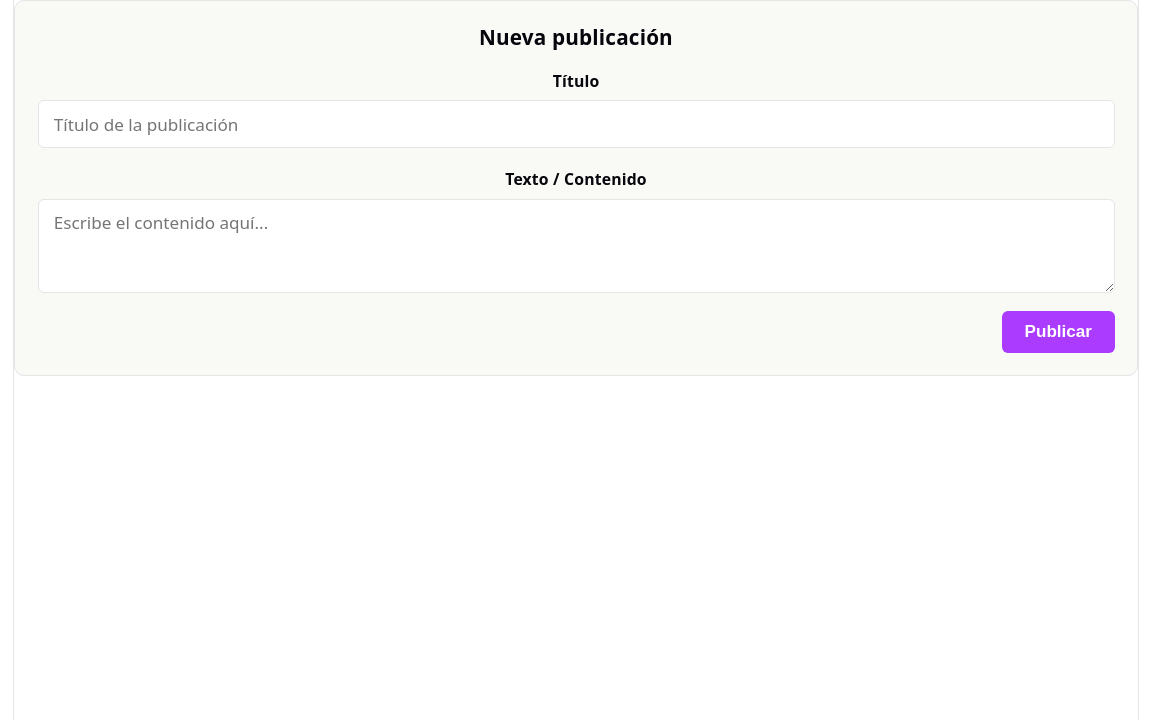
Test: PostForm component › procesa el envío exitoso, deshabilita el botón mientras envía y limpia los campos al finalizar
This screenshot has width=1152, height=720.
Later steps or results of the test are not shown.
Step 1. Type "Mi Nuevo Post" into the field labelled "Título" → (576, 124), box top-left (38, 100), bottom-right (1114, 148)
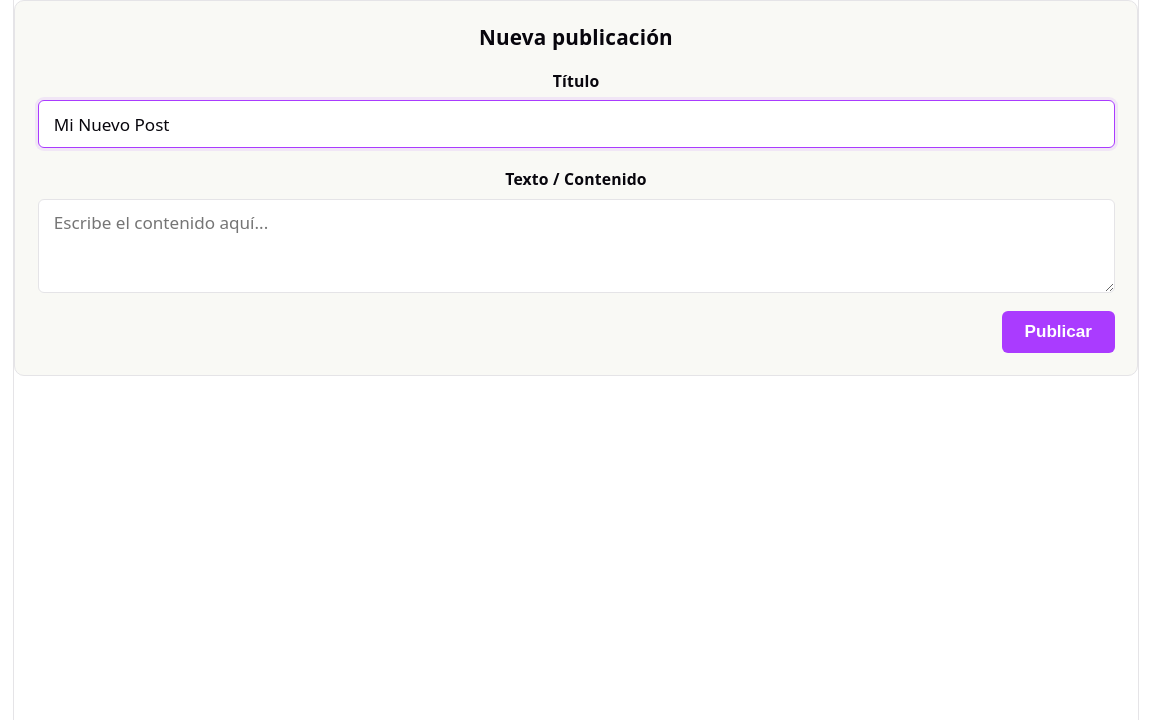
Step 2. Type "Este es el contenido de prueba" into the text box labelled "Texto / Contenido" → (576, 246), box top-left (38, 199), bottom-right (1114, 293)
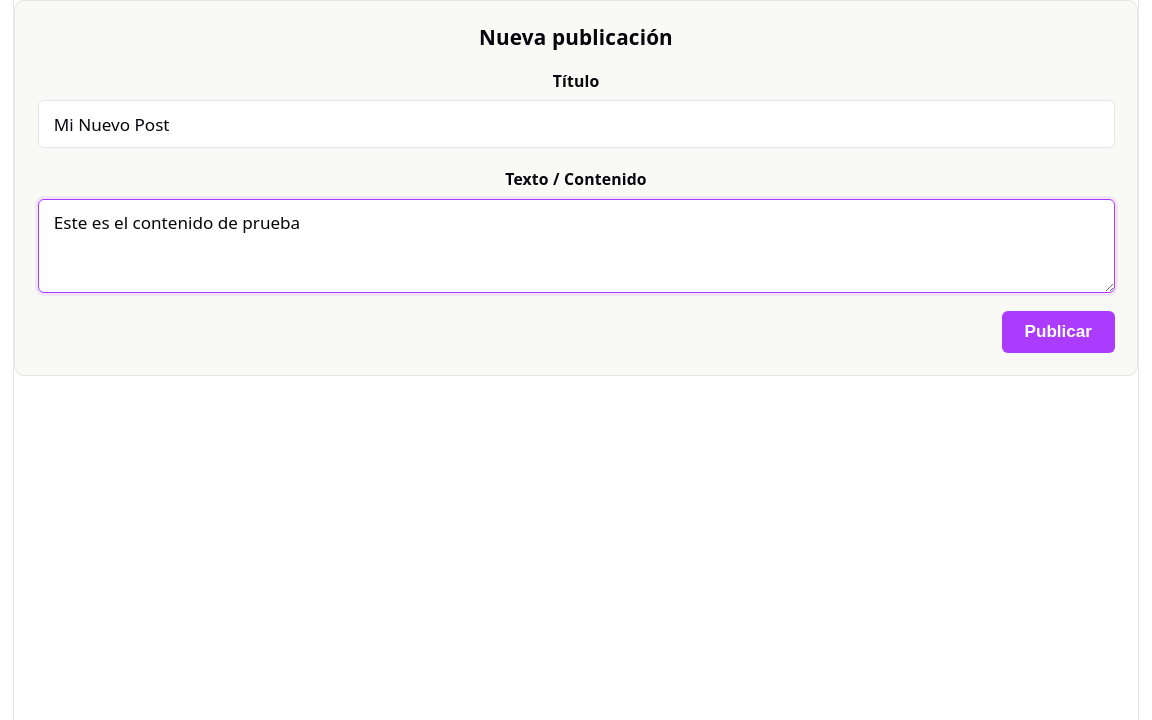
Step 3. Click the button "Publicar" → (1058, 332), box top-left (1002, 311), bottom-right (1114, 353)
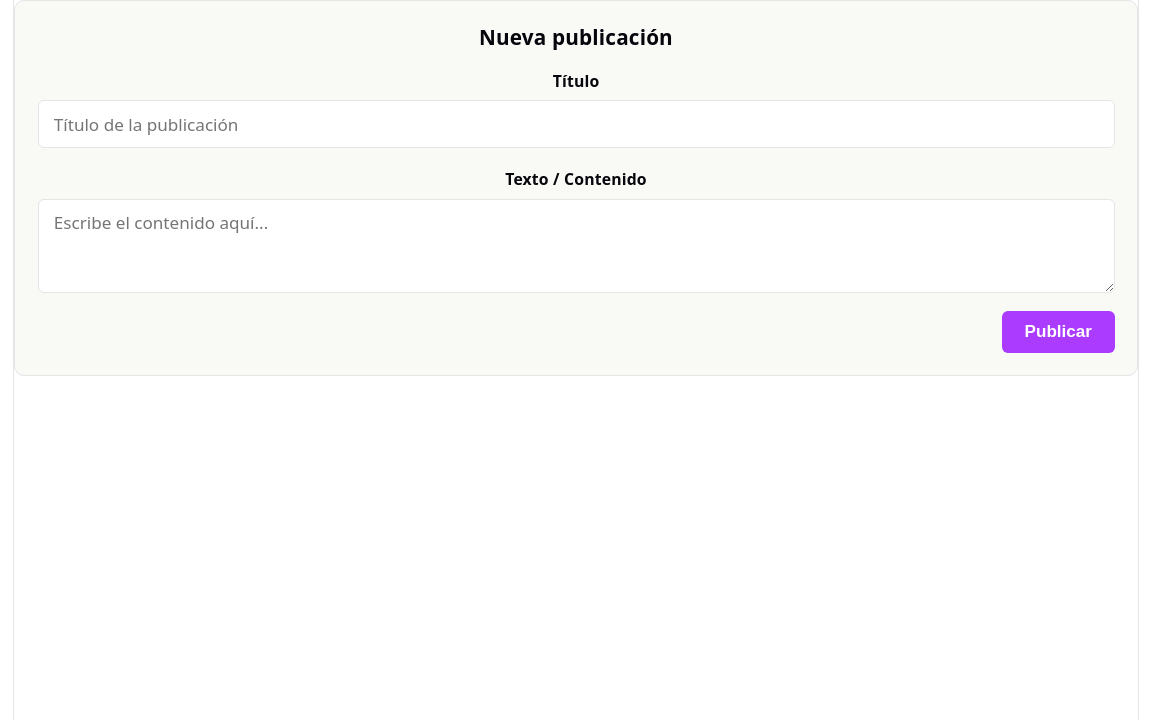
Check: the field labelled "Título" is empty, box top-left (38, 100), bottom-right (1114, 148)
Check: the text box labelled "Texto / Contenido" is empty, box top-left (38, 199), bottom-right (1114, 293)
